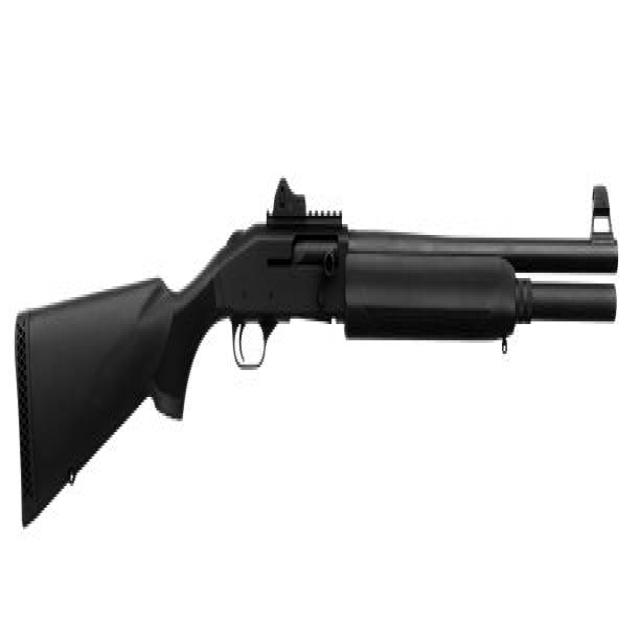rifle: (11, 174, 621, 531)
